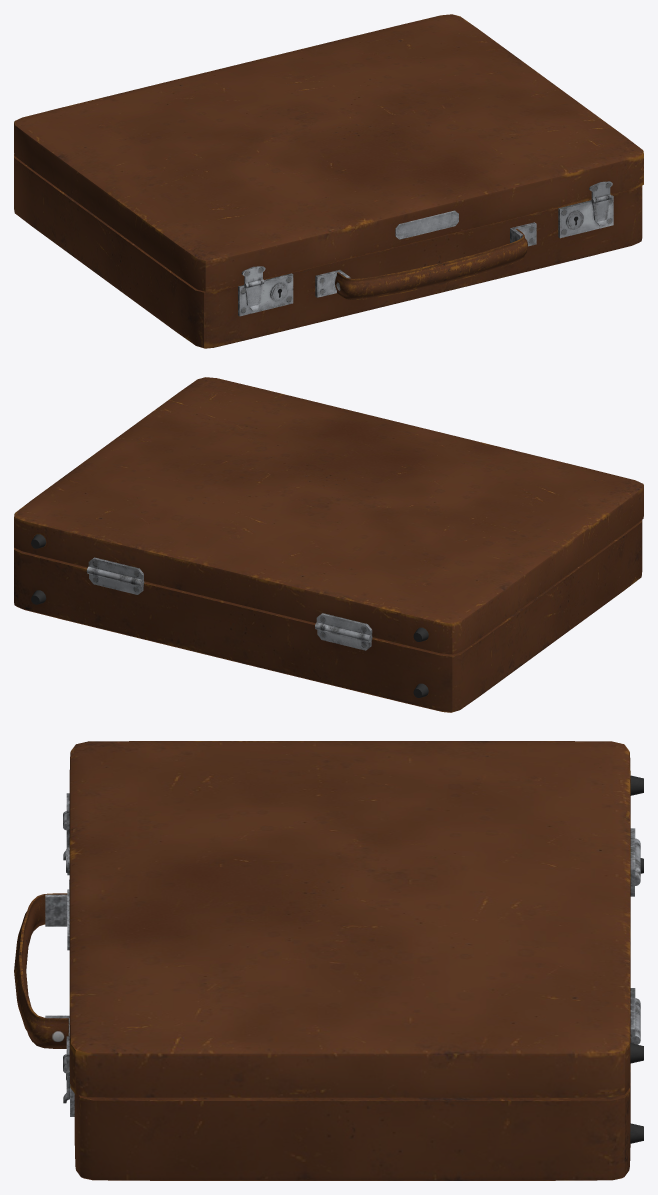
Rendered from suitcase.glb.
3 renders of one model, top to bottom at view 1: azimuth 30°, elevation 25°; view 2: azimuth 150°, elevation 25°; view 3: azimuth 270°, elevation 25°, orthographic. The views are drawn at different scales.
Visible parts, largest first — view 1: TapaSuperior_LP.001, TapaInferior_LP.001, Maneta_LP.001, Hierro1_LP.001, PlaquitaNombre_LP.001, SoporteManeta_LP.001, Mecanismo4_LP.001, Mecanismo3_LP.001, SitioLlave_LP.001; view 2: TapaSuperior_LP.001, TapaInferior_LP.001, Mecanismo2_LP.001, Mecanismo1_LP.001, TopesGoma_LP.001; view 3: TapaSuperior_LP.001, TapaInferior_LP.001, Maneta_LP.001, SoporteManeta_LP.001, Mecanismo1_LP.001, TopesGoma_LP.001.
Part boxes in pixels (bbox=[...]): TapaSuperior_LP.001: bbox=[14, 14, 643, 291]; TapaInferior_LP.001: bbox=[14, 154, 642, 348]; Maneta_LP.001: bbox=[335, 228, 527, 299]; Hierro1_LP.001: bbox=[238, 195, 613, 316]; PlaquitaNombre_LP.001: bbox=[395, 210, 458, 239]; SoporteManeta_LP.001: bbox=[315, 222, 536, 297]; Mecanismo4_LP.001: bbox=[244, 195, 609, 311]; Mecanismo3_LP.001: bbox=[241, 181, 612, 288]; SitioLlave_LP.001: bbox=[270, 211, 583, 301]; TapaSuperior_LP.001: bbox=[14, 377, 643, 654]; TapaInferior_LP.001: bbox=[14, 520, 642, 712]; Mecanismo2_LP.001: bbox=[89, 568, 371, 650]; Mecanismo1_LP.001: bbox=[86, 557, 372, 642]; TopesGoma_LP.001: bbox=[31, 534, 428, 697]; TapaSuperior_LP.001: bbox=[69, 741, 630, 1097]; TapaInferior_LP.001: bbox=[74, 1070, 630, 1180]; Maneta_LP.001: bbox=[14, 893, 68, 1048]; SoporteManeta_LP.001: bbox=[45, 879, 69, 1036]; Mecanismo1_LP.001: bbox=[630, 828, 640, 1044]; TopesGoma_LP.001: bbox=[630, 775, 643, 1143].
Bounding box in the file's own units: 40 × 9.14 × 33.98.
Materials: 1 (1 with a texture image).
